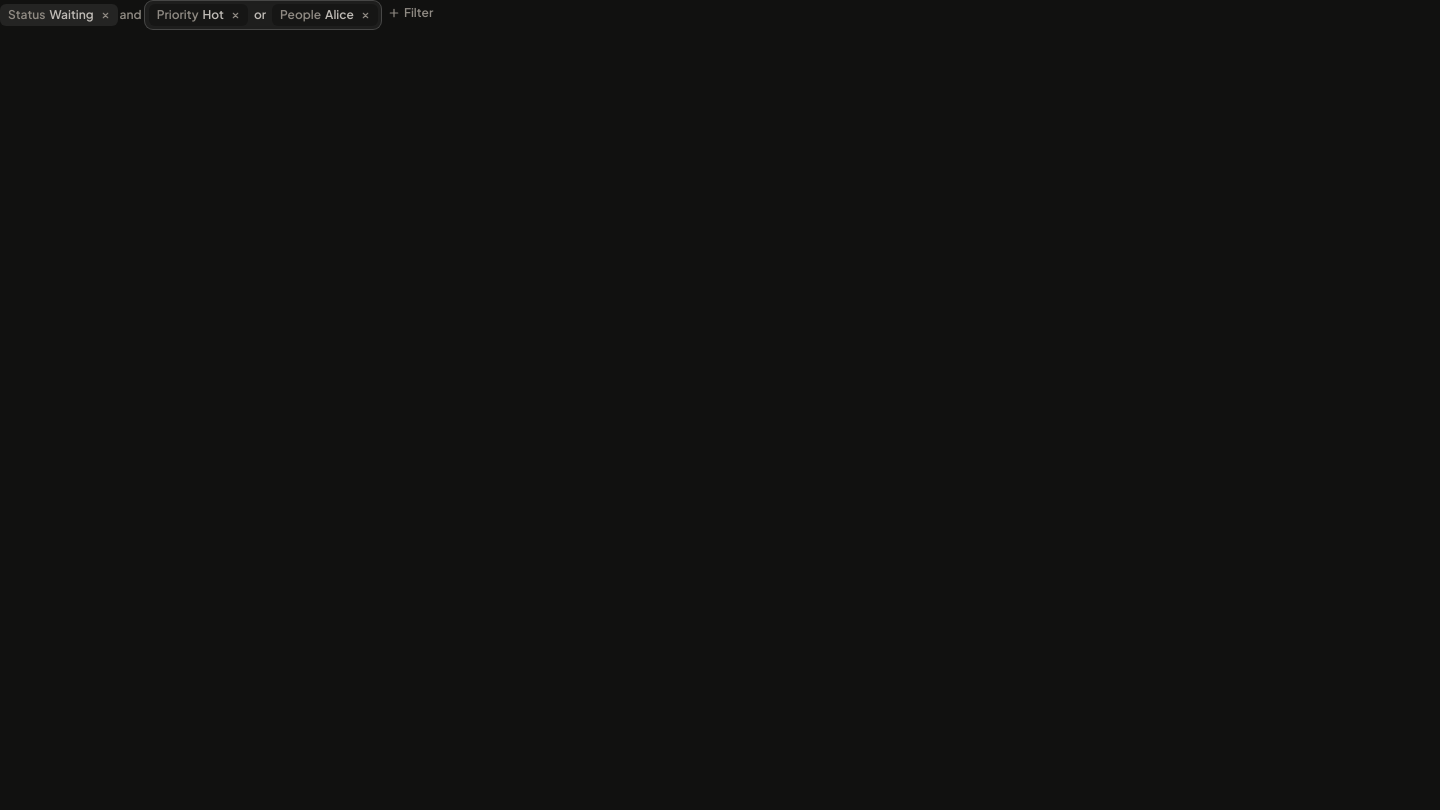
Test: PredicateChips — or groups on the filter line › a group’s "or" opens its panel: the fields it can take, and Remove group with its filters
Click the button with aria-label "Group".
click(260, 15)  # box [252, 9, 268, 21]
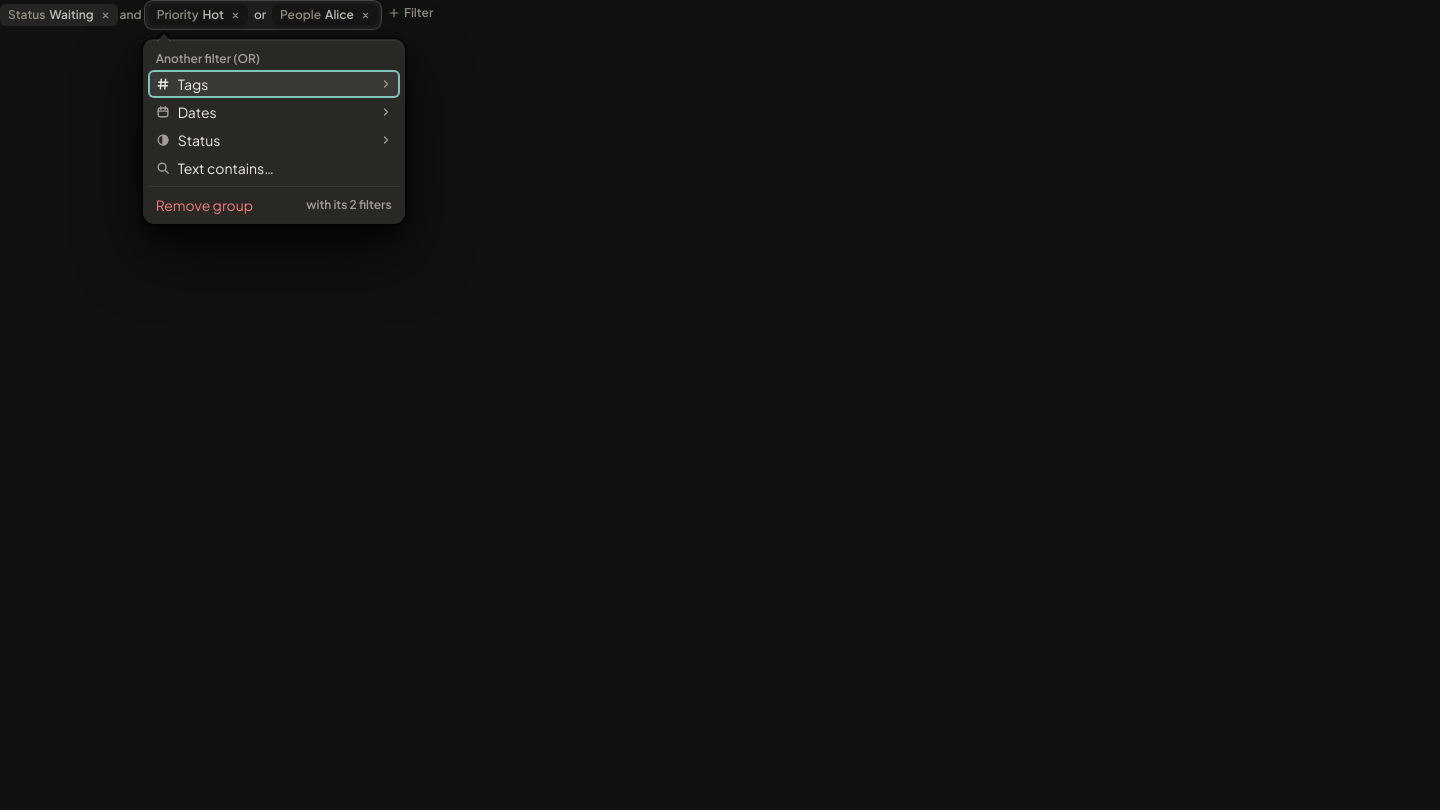
Result: the buttons read "Tags", "Dates", "Status", "Text contains…", "Remove groupwith its 2 filters", in this order
Click the button "Remove group with its 2 filters".
click(274, 205)  # box [148, 191, 400, 219]
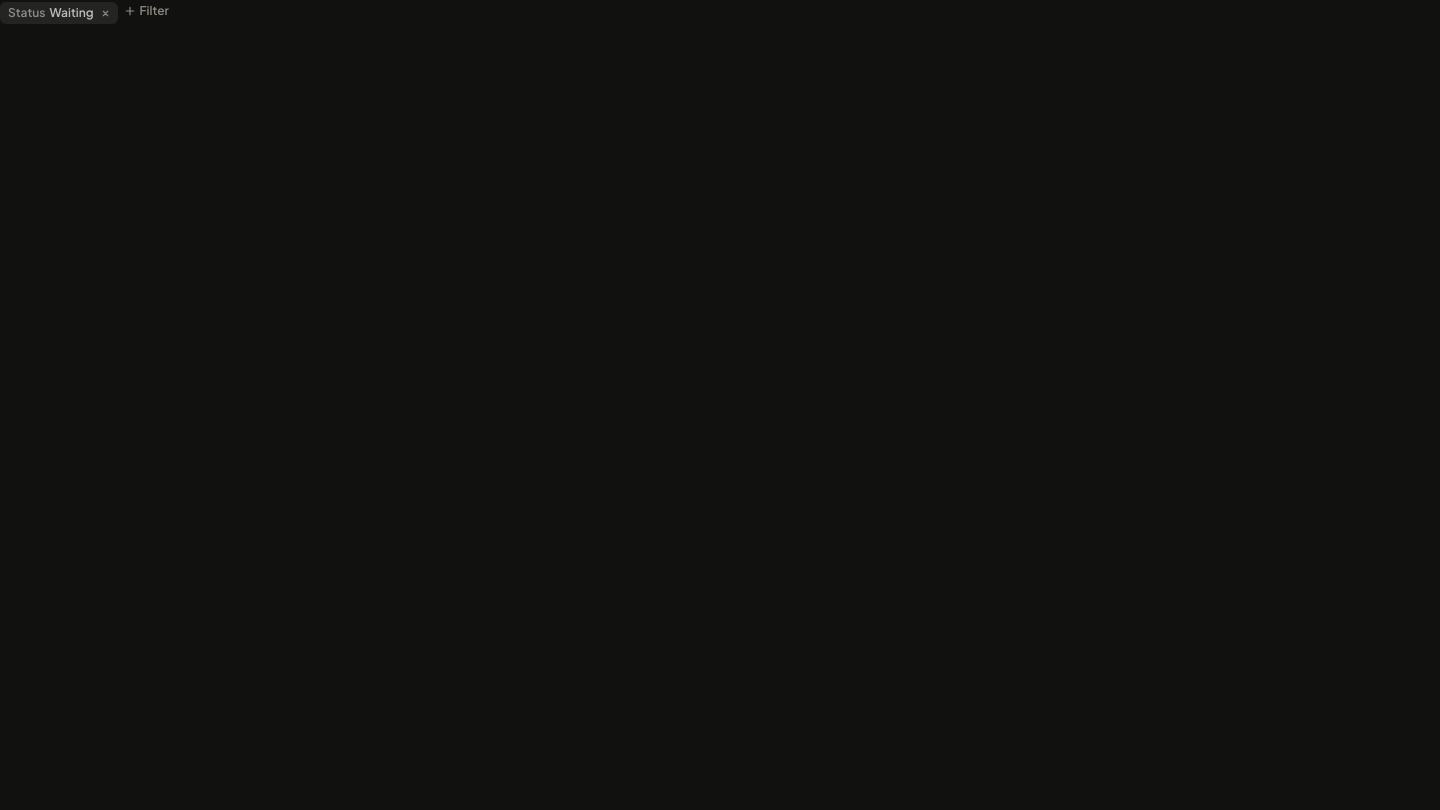
Result: the element with test id "or-group" is gone
